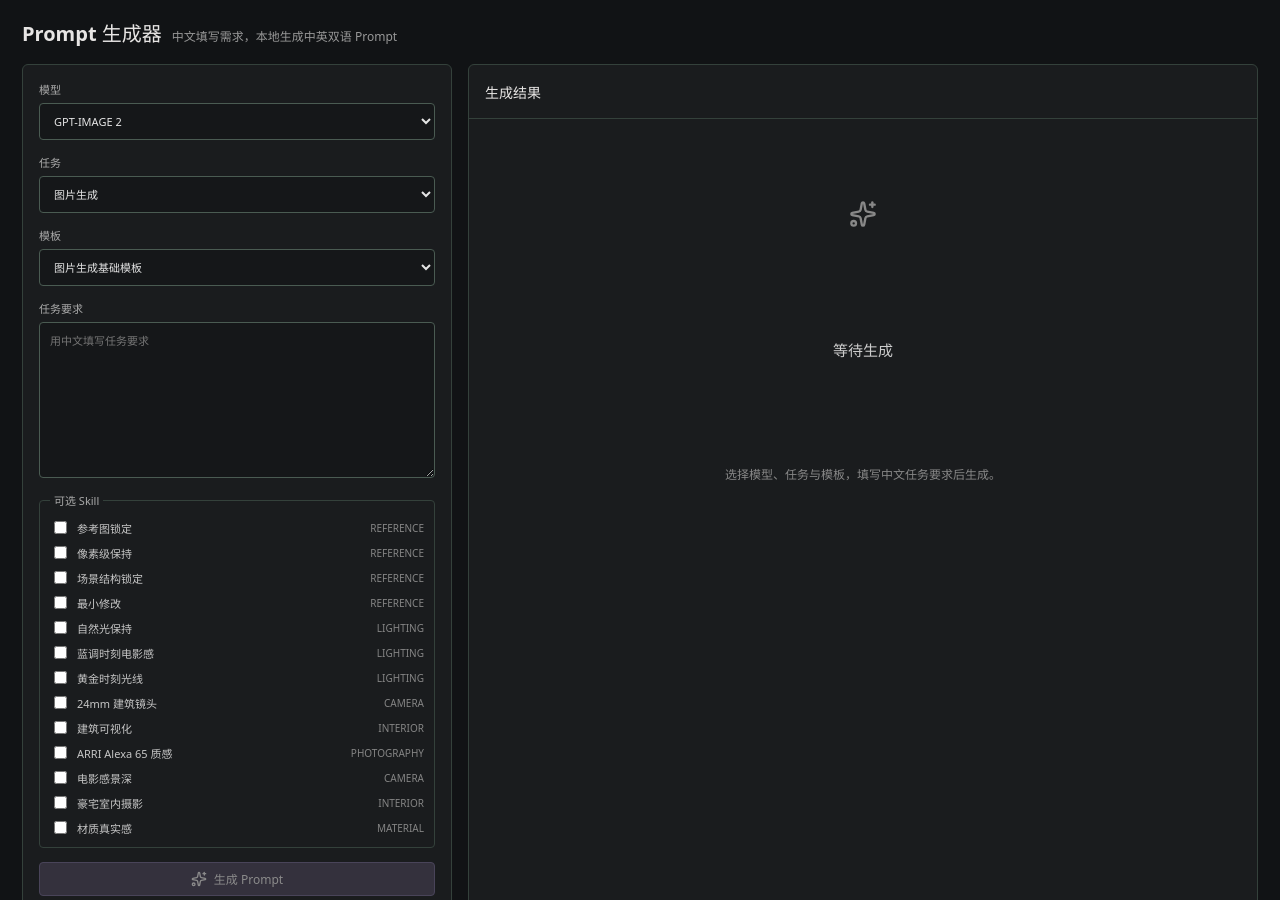
Test: GeneratorPage › surfaces a recoverable error when conflicting Skills are selected
The width and height of the screenshot is (1280, 900).
In the text box labelled "任务要求": (237, 400) x1=39 y1=322 x2=435 y2=478, type "提升画面质感"
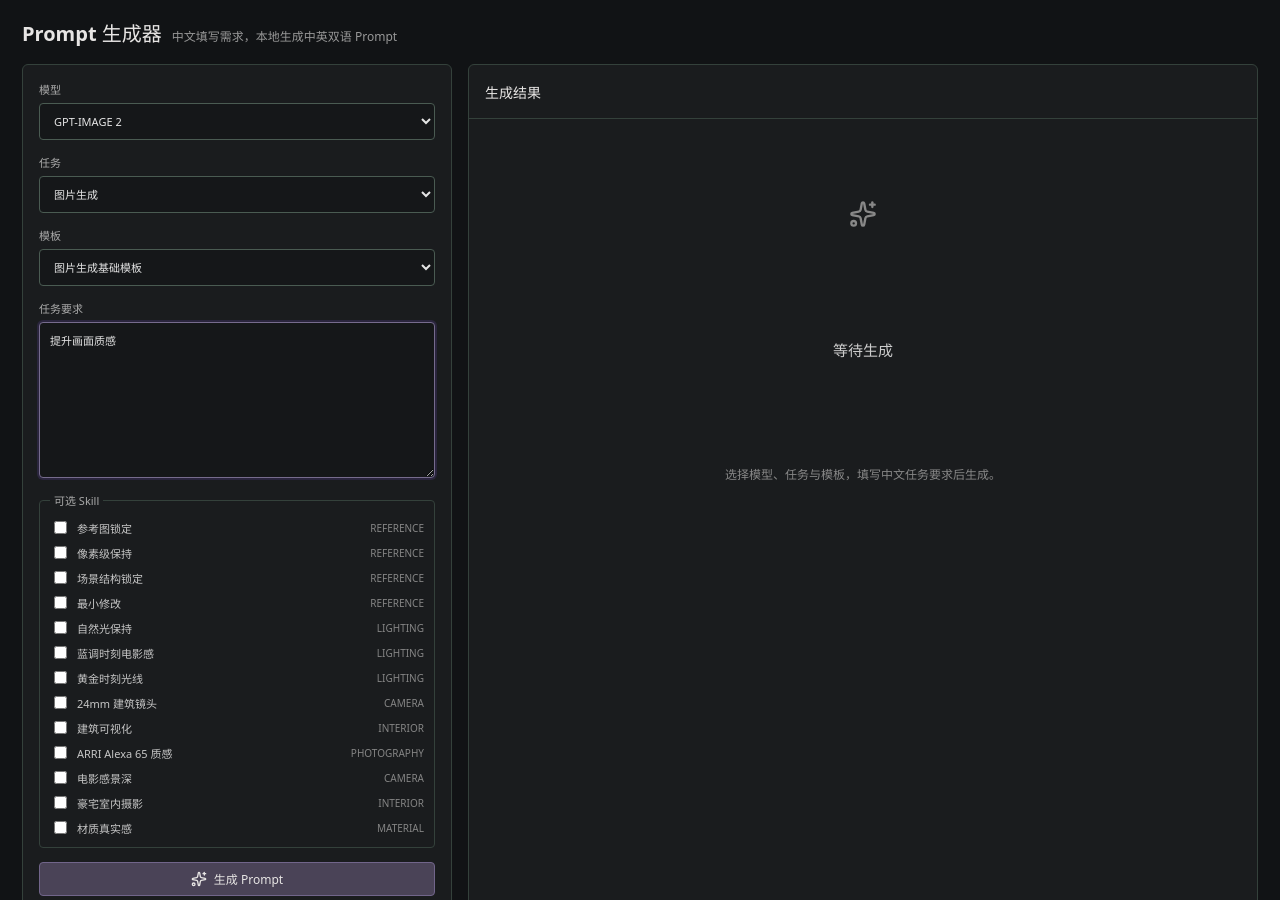
Click the checkbox labelled "自然光保持": (60, 628) x1=54 y1=621 x2=67 y2=634
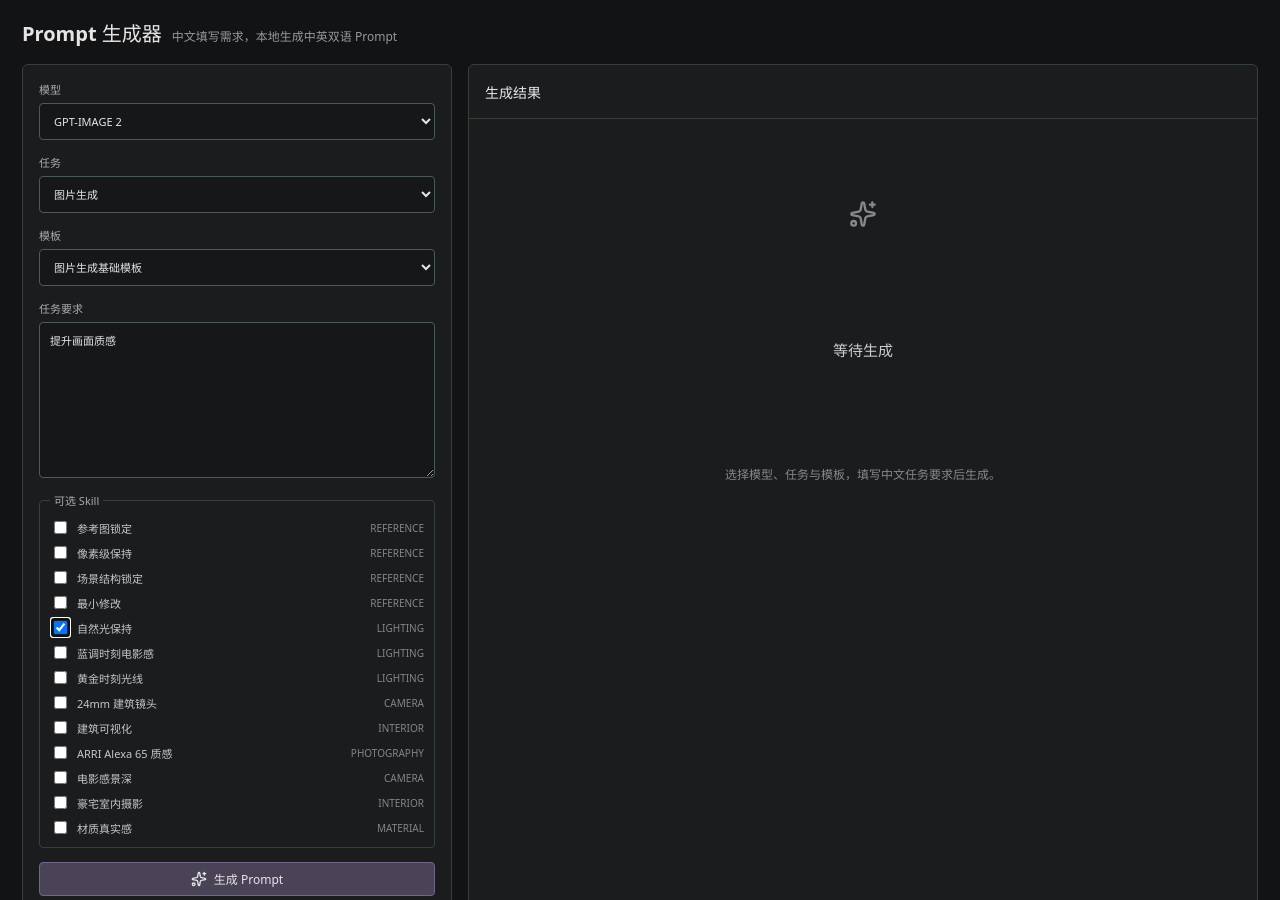
Click the checkbox labelled "黄金时刻光线": (60, 678) x1=54 y1=671 x2=67 y2=684
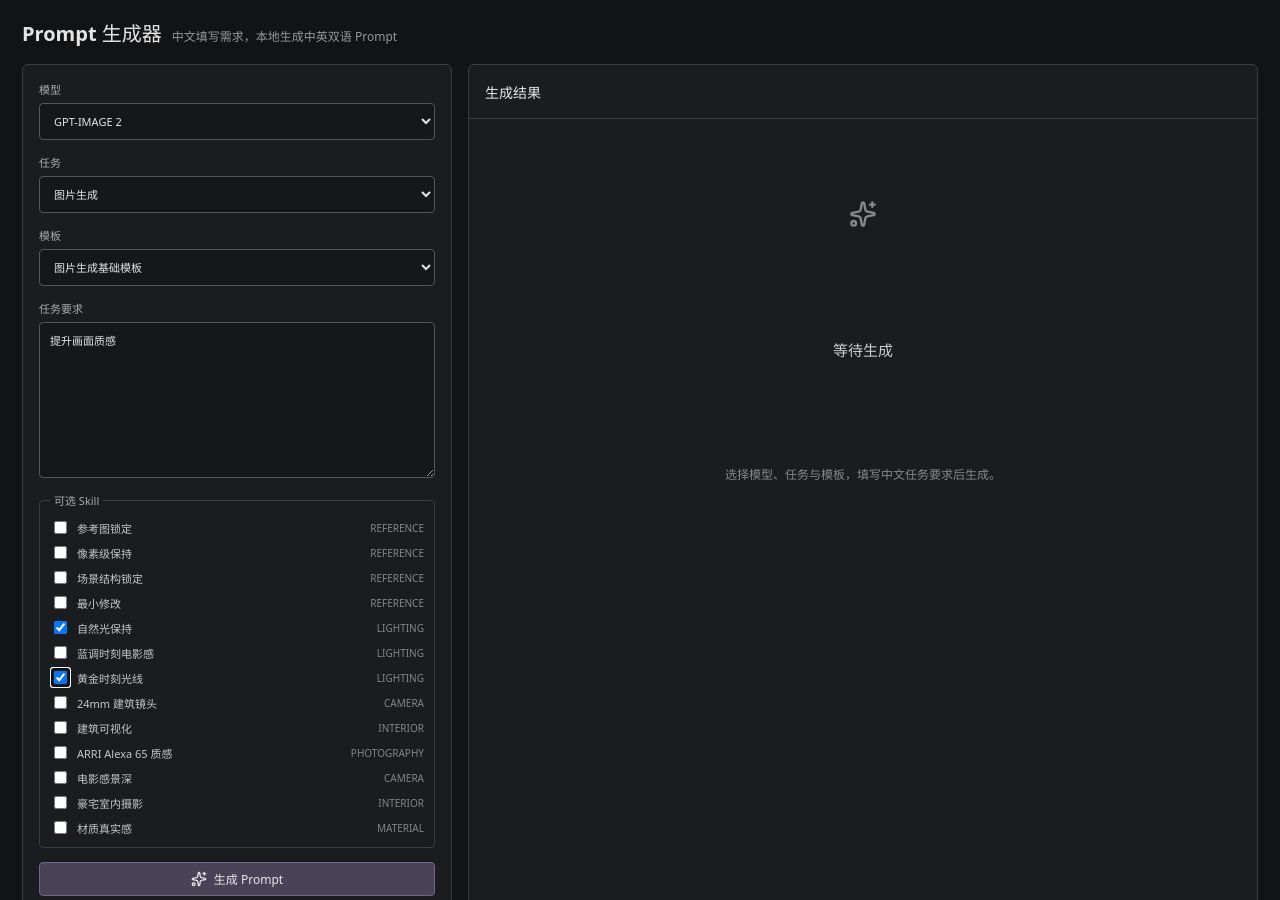
Click the button "生成 Prompt": (237, 879) x1=39 y1=862 x2=435 y2=896
(page scrolled)
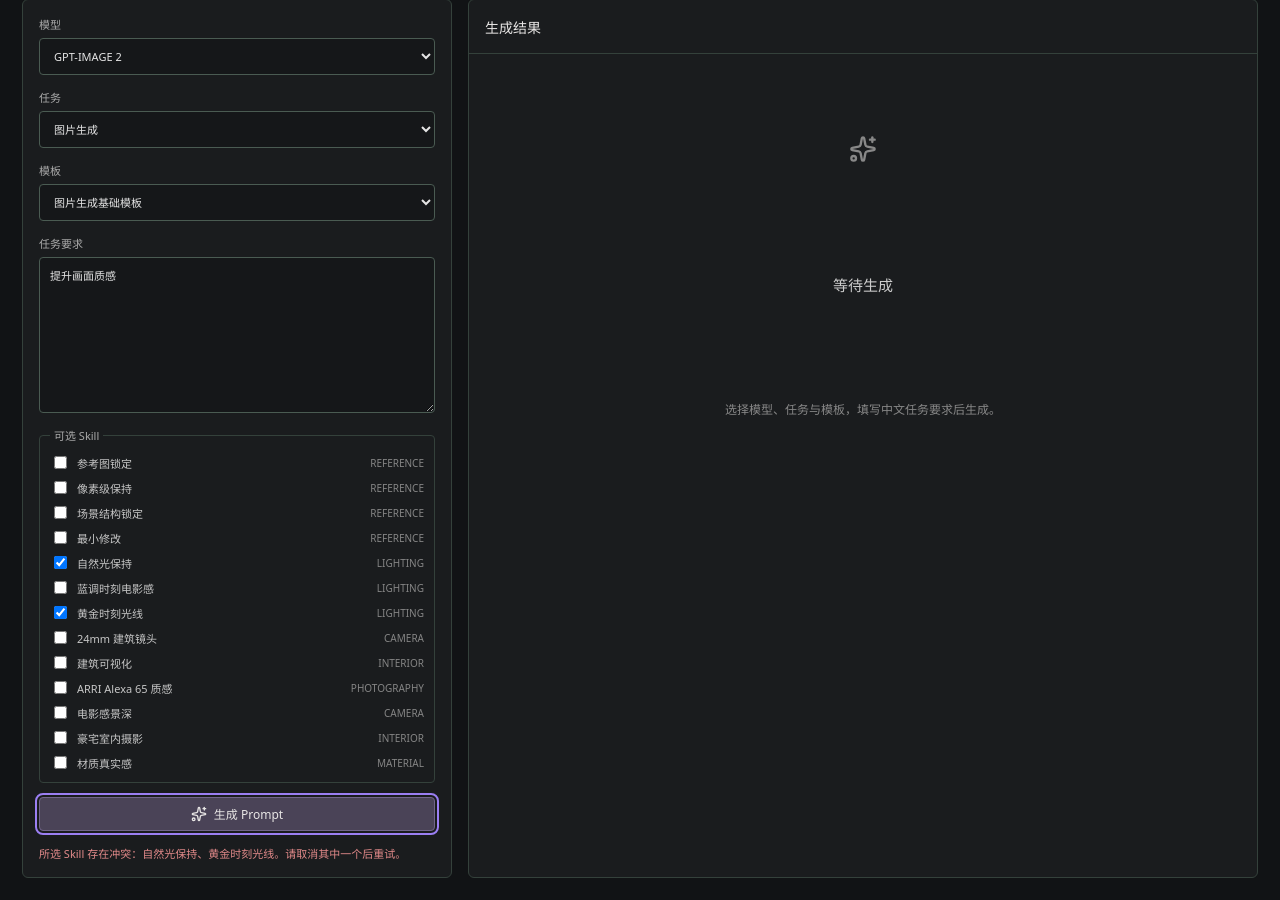
Now the message "所选 Skill 存在冲突：自然光保持、黄金时刻光线。请取消其中一个后重试。" is shown, box x1=39 y1=845 x2=435 y2=861
Now the message shows "所选 Skill 存在冲突", box x1=39 y1=846 x2=406 y2=861
Now the message shows "自然光保持", box x1=39 y1=846 x2=406 y2=861
